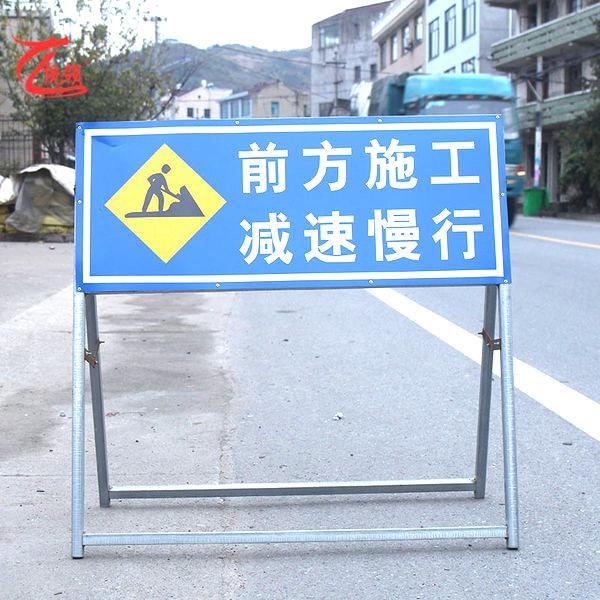sign: (76, 123, 508, 283)
